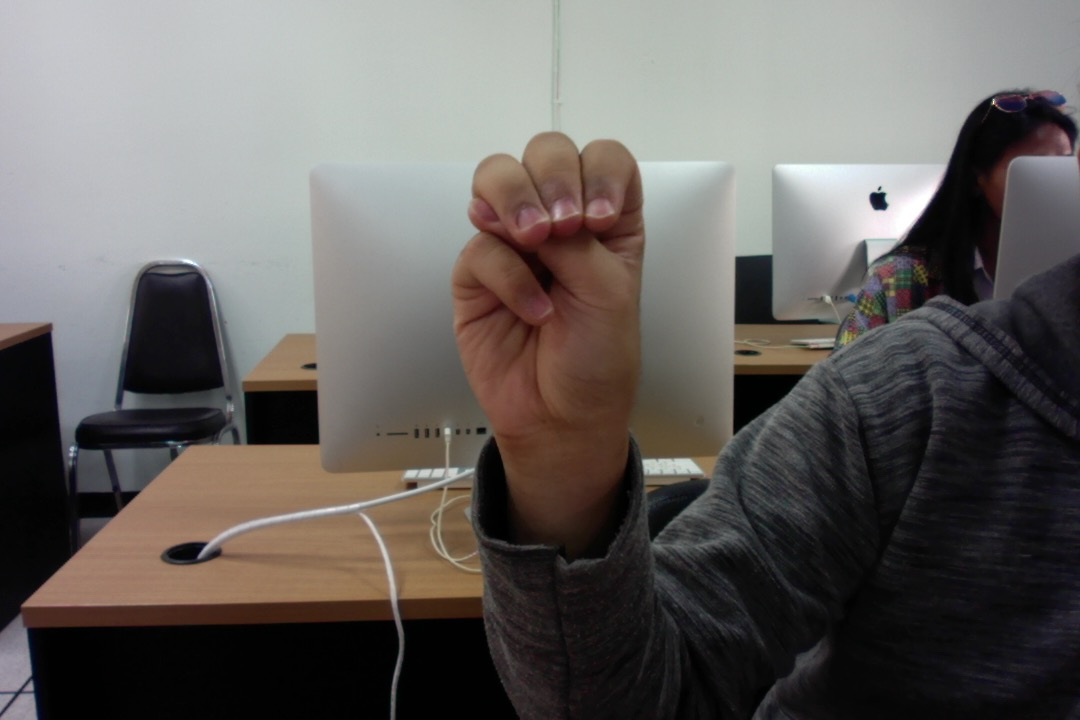mor: (447, 121, 655, 452)
